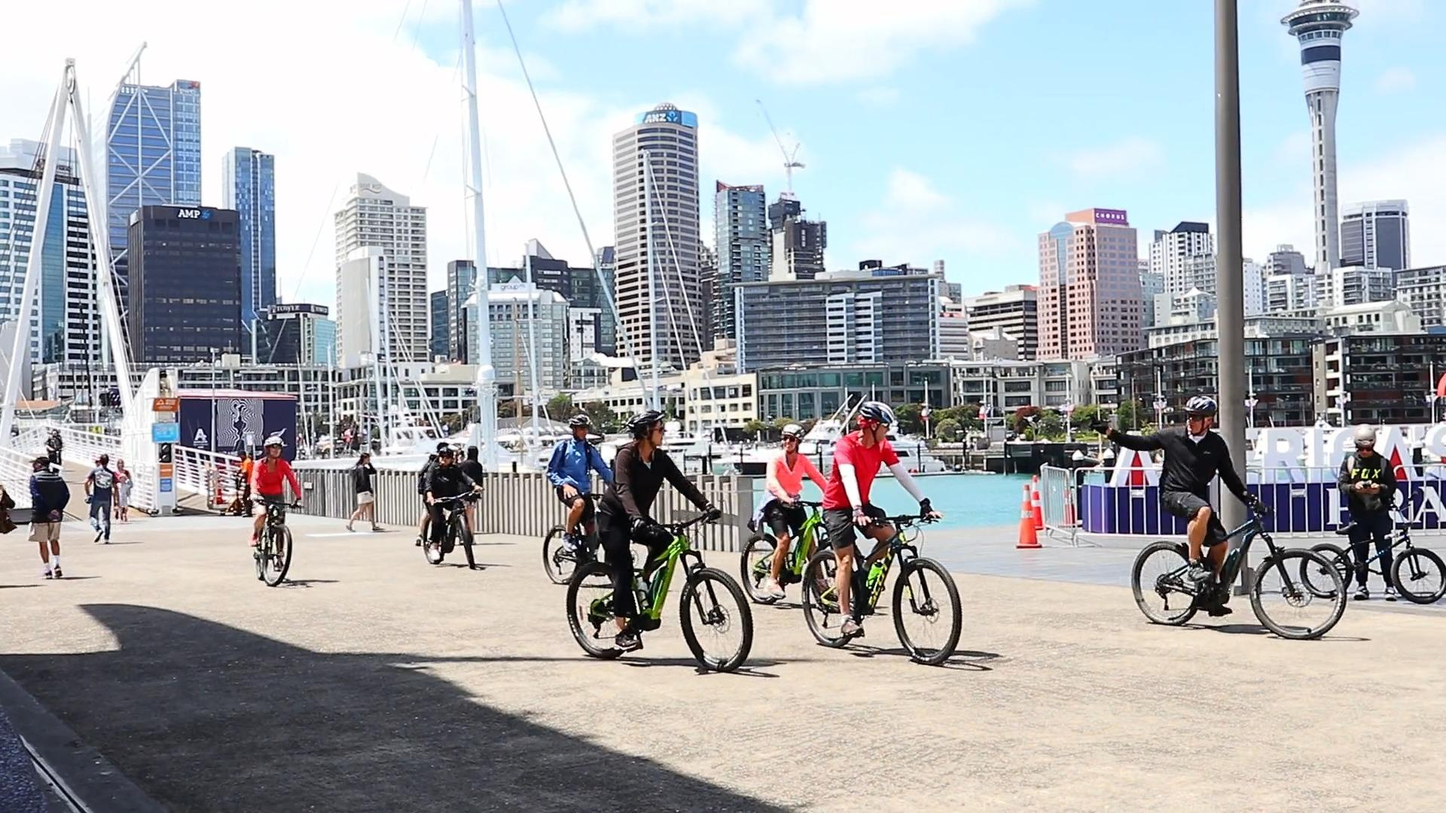bicyclist: (1085, 396, 1347, 640), (566, 408, 754, 672), (801, 401, 962, 665), (740, 423, 828, 604), (247, 436, 305, 587), (423, 446, 485, 570)
helmet: (626, 408, 665, 451), (857, 401, 893, 445), (1182, 396, 1217, 436), (1355, 423, 1376, 459), (782, 424, 806, 454), (569, 414, 593, 442), (263, 436, 284, 459)
